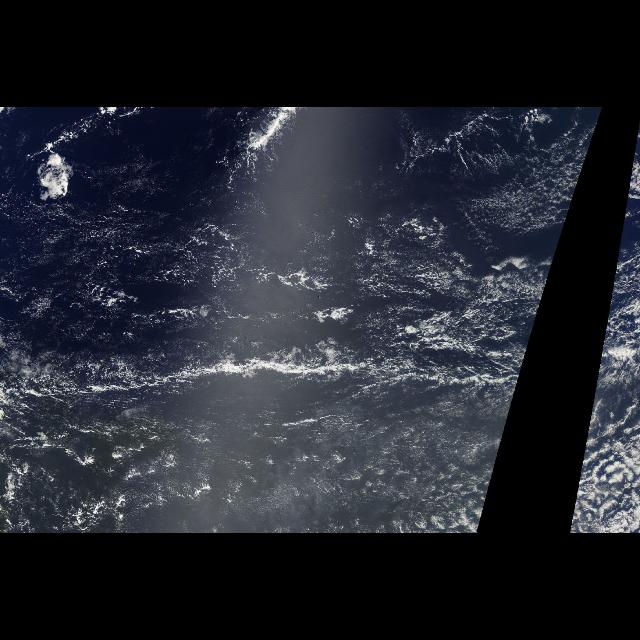Fish: (7, 334, 529, 424)
Gravel: (60, 208, 350, 349), (352, 212, 546, 404)
Sugar: (9, 200, 434, 342), (44, 404, 462, 524)
